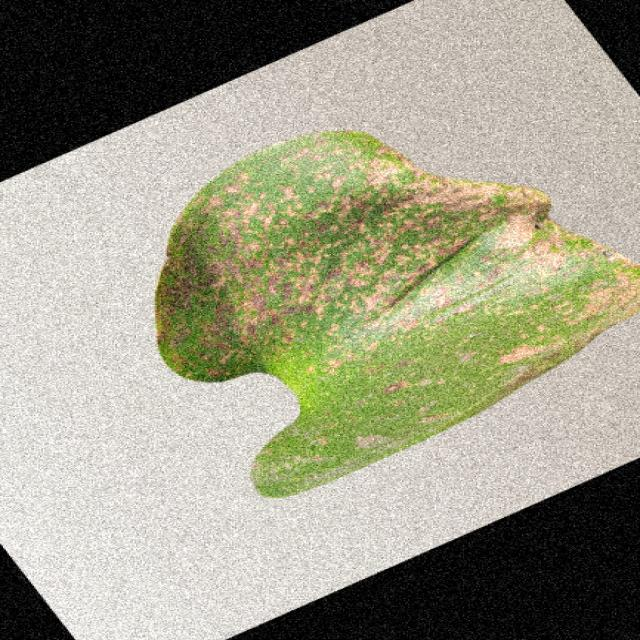daun berpenyakit bercak: (157, 132, 638, 498)
